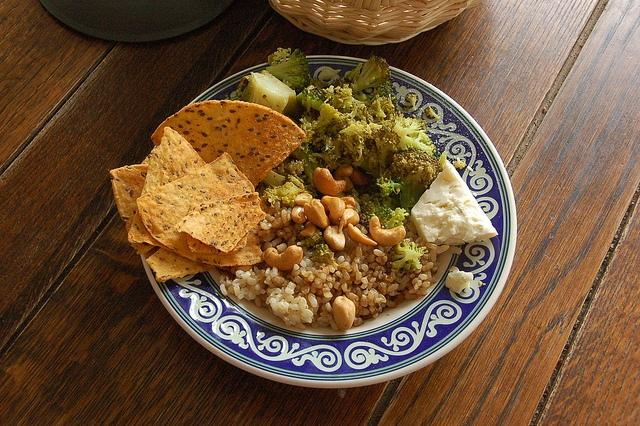broccoli: (376, 146, 442, 208), (229, 70, 304, 120), (384, 110, 436, 156), (310, 103, 353, 152), (266, 48, 310, 90), (288, 143, 324, 188), (387, 239, 430, 274), (370, 125, 400, 175), (356, 54, 392, 94), (262, 182, 314, 208), (358, 205, 409, 230), (326, 84, 356, 114), (296, 85, 325, 115), (310, 149, 342, 170), (368, 93, 394, 118), (350, 127, 370, 157), (356, 176, 381, 198), (332, 134, 344, 158), (308, 142, 322, 154)
